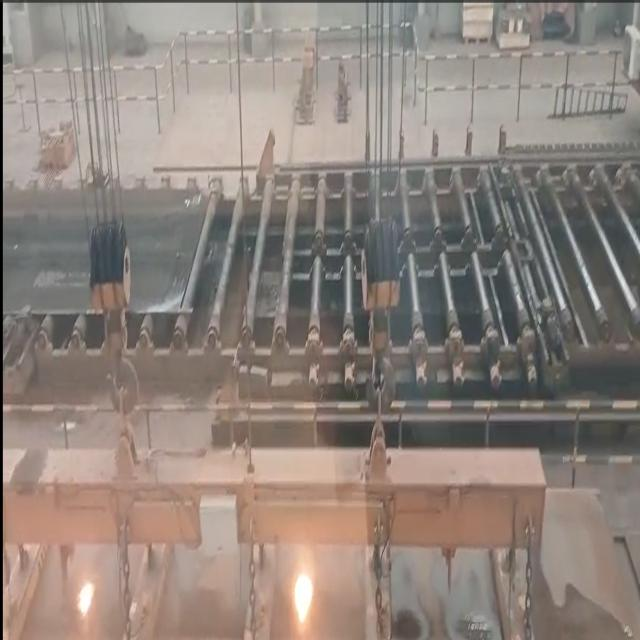warningzone: (176, 148, 637, 395)
